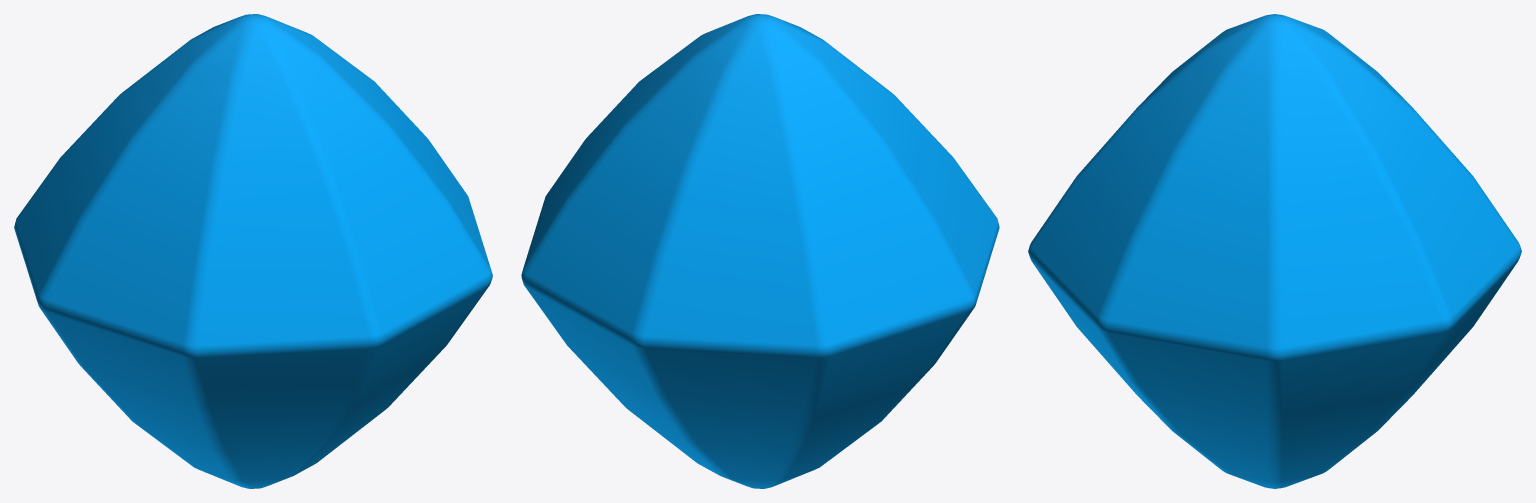
The picture shows the model from 3 angles, left to right: view 1: azimuth 30°, elevation 25°; view 2: azimuth 150°, elevation 25°; view 3: azimuth 270°, elevation 25°; orthographic projection.
Parts seen in each view (by area): view 1: model_0.104; view 2: model_0.104; view 3: model_0.104.
Part boxes in pixels (bbox=[...]): model_0.104: bbox=[14, 14, 492, 488]; model_0.104: bbox=[521, 14, 999, 488]; model_0.104: bbox=[1028, 14, 1521, 488].
Size of the model in its own units: 3.48 by 3.64 by 3.48.
